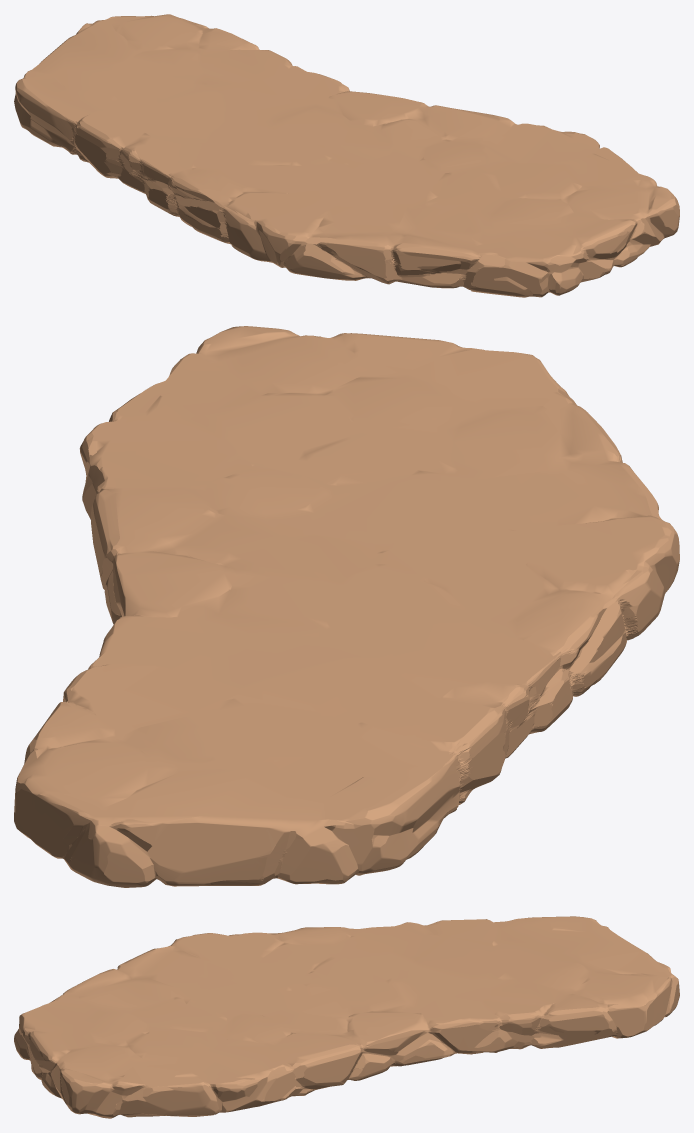
The picture shows the model from 3 angles, top to bottom: view 1: azimuth 30°, elevation 25°; view 2: azimuth 150°, elevation 25°; view 3: azimuth 270°, elevation 25°; orthographic projection. The views are drawn at different scales.
Parts seen in each view (by area): view 1: Mesh_28_LOD0; view 2: Mesh_28_LOD0; view 3: Mesh_28_LOD0.
Boxes of the visible parts, x1,y1,x2,y2 form: Mesh_28_LOD0: (14, 14, 679, 297); Mesh_28_LOD0: (14, 326, 679, 887); Mesh_28_LOD0: (14, 916, 679, 1118).
Size of what is drawn, in the model's own units: 5682 by 644 by 9316.
